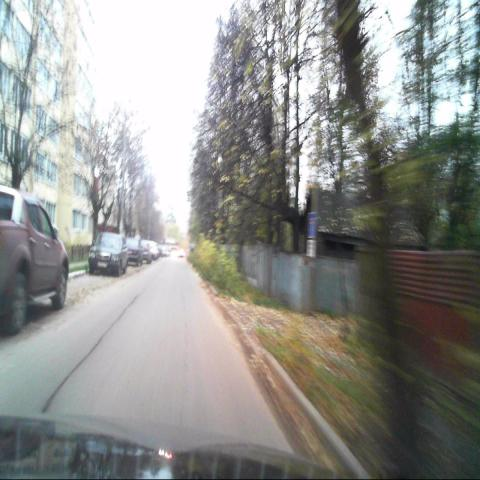6_8_1: (308, 210, 316, 238)
